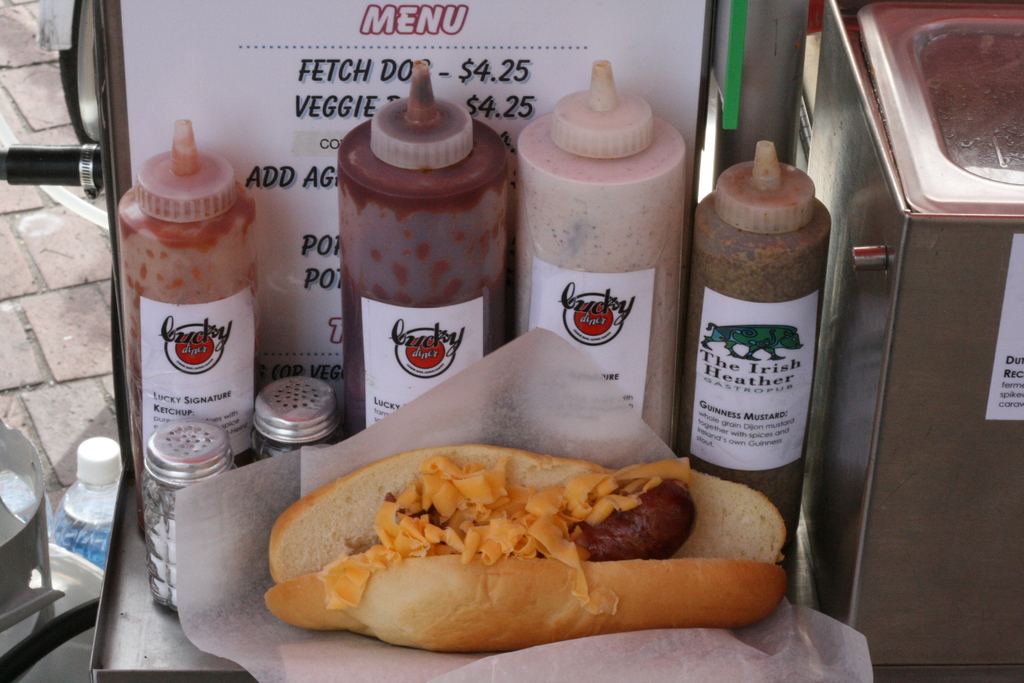hot_dog: (269, 416, 793, 677)
